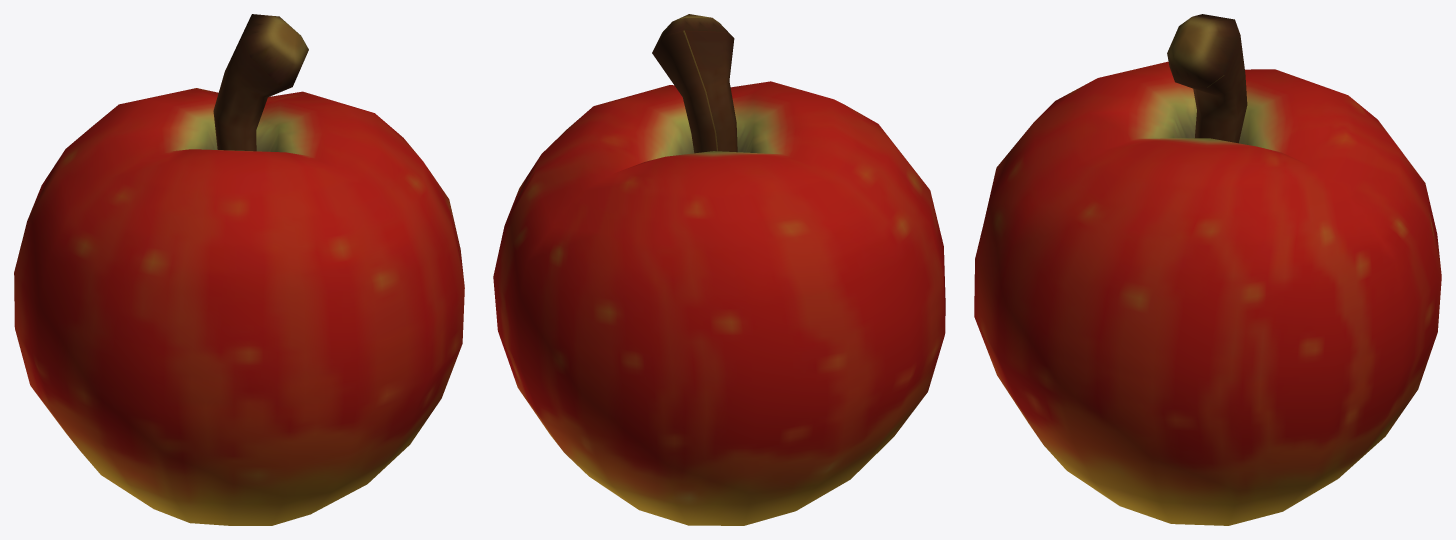
Rendered from apple.glb.
The picture shows the model from 3 angles, left to right: view 1: azimuth 30°, elevation 25°; view 2: azimuth 150°, elevation 25°; view 3: azimuth 270°, elevation 25°; orthographic projection. The views are drawn at different scales.
Visible parts, largest first — view 1: body_low__mPltFruitApple; view 2: body_low__mPltFruitApple; view 3: body_low__mPltFruitApple.
Part boxes in pixels (bbox=[...]): body_low__mPltFruitApple: bbox=[14, 14, 464, 525]; body_low__mPltFruitApple: bbox=[493, 14, 945, 525]; body_low__mPltFruitApple: bbox=[974, 14, 1441, 525].
Bounding box in the file's own units: 0.4079 × 0.4596 × 0.4078.
1 material, 1 textured.
